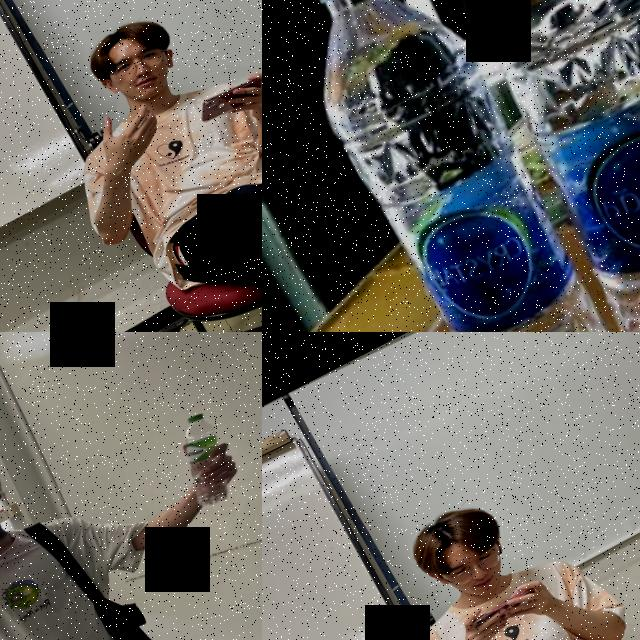bottle: (262, 0, 640, 332), (411, 0, 640, 332), (160, 408, 248, 512)
